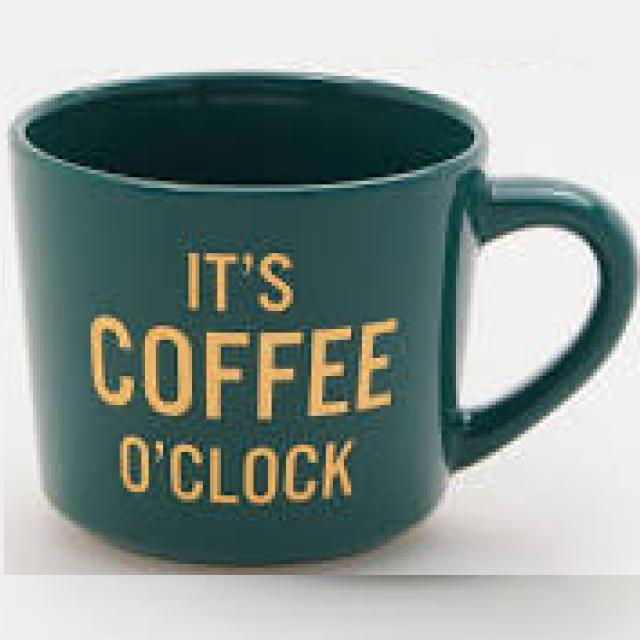Coffee Mug: (12, 70, 640, 566)
